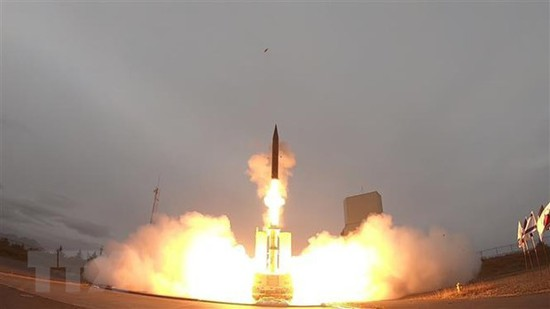ten_lua: (264, 116, 288, 188)
